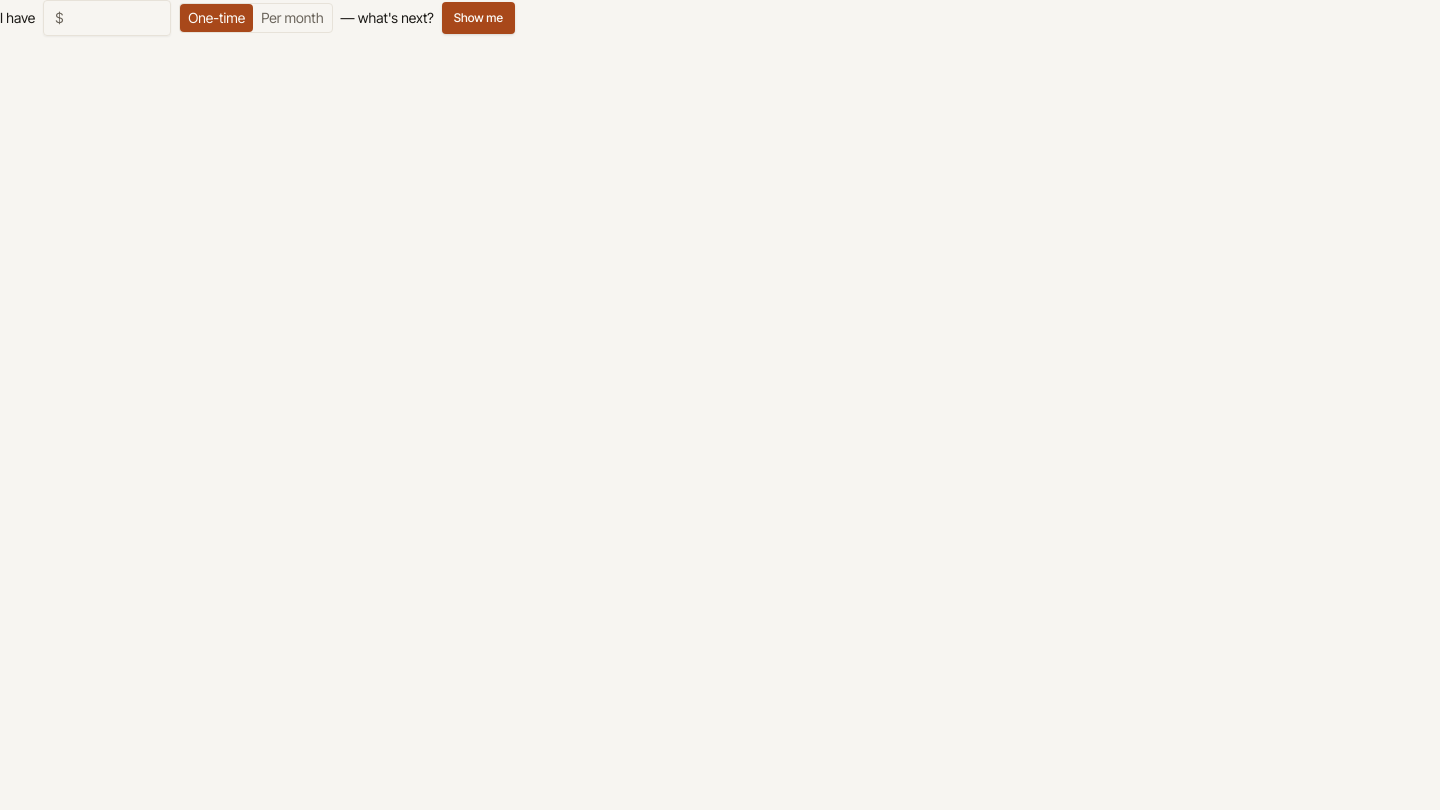
QuestionBar › Escape does NOT dismiss the interview gate; Cancel is the only non-accept exit (smoke defect)
Type "10000" into the field named "Amount". click: (107, 18)
box: [43,0,171,36]
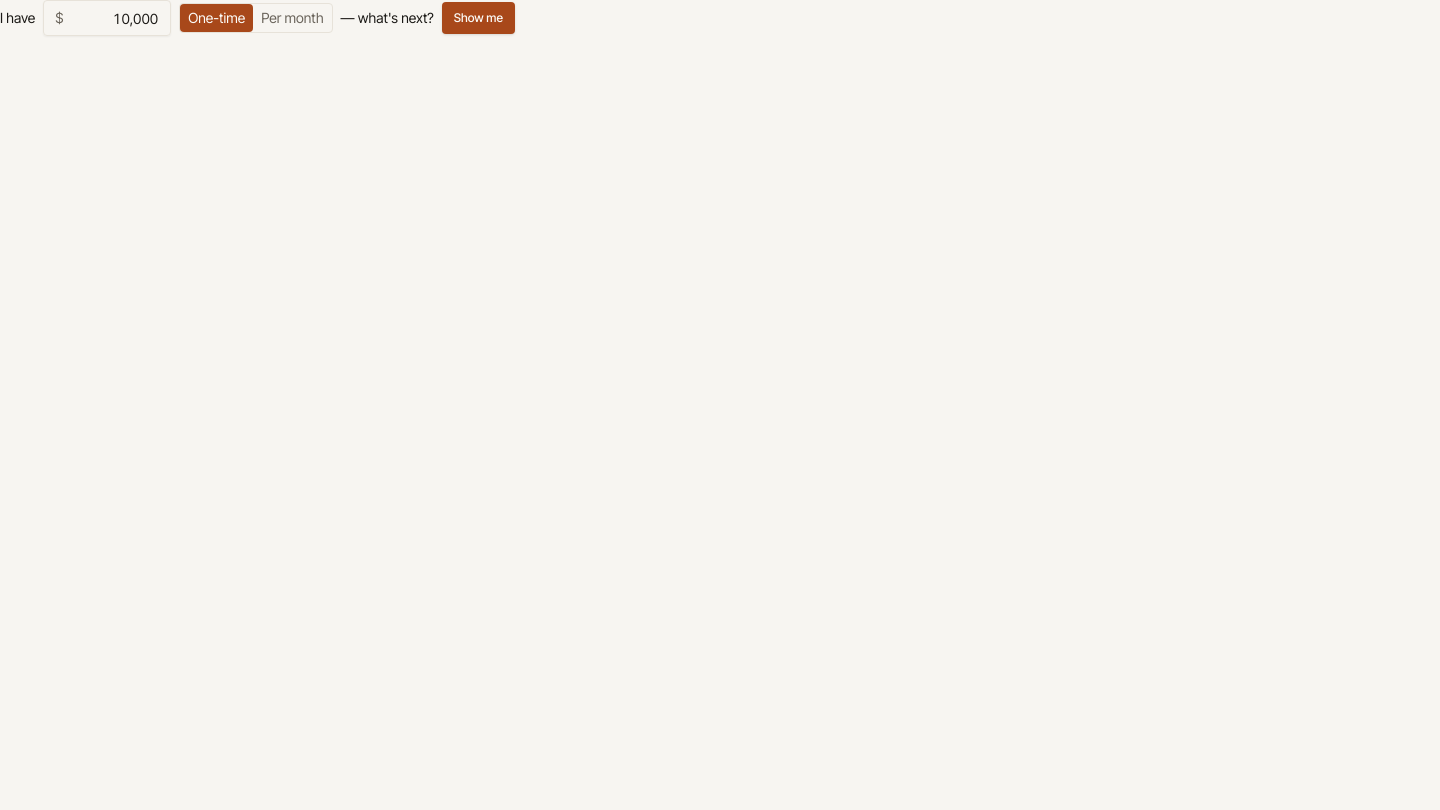
Click the button "Show me". click: (478, 18)
box: [442,2,515,34]
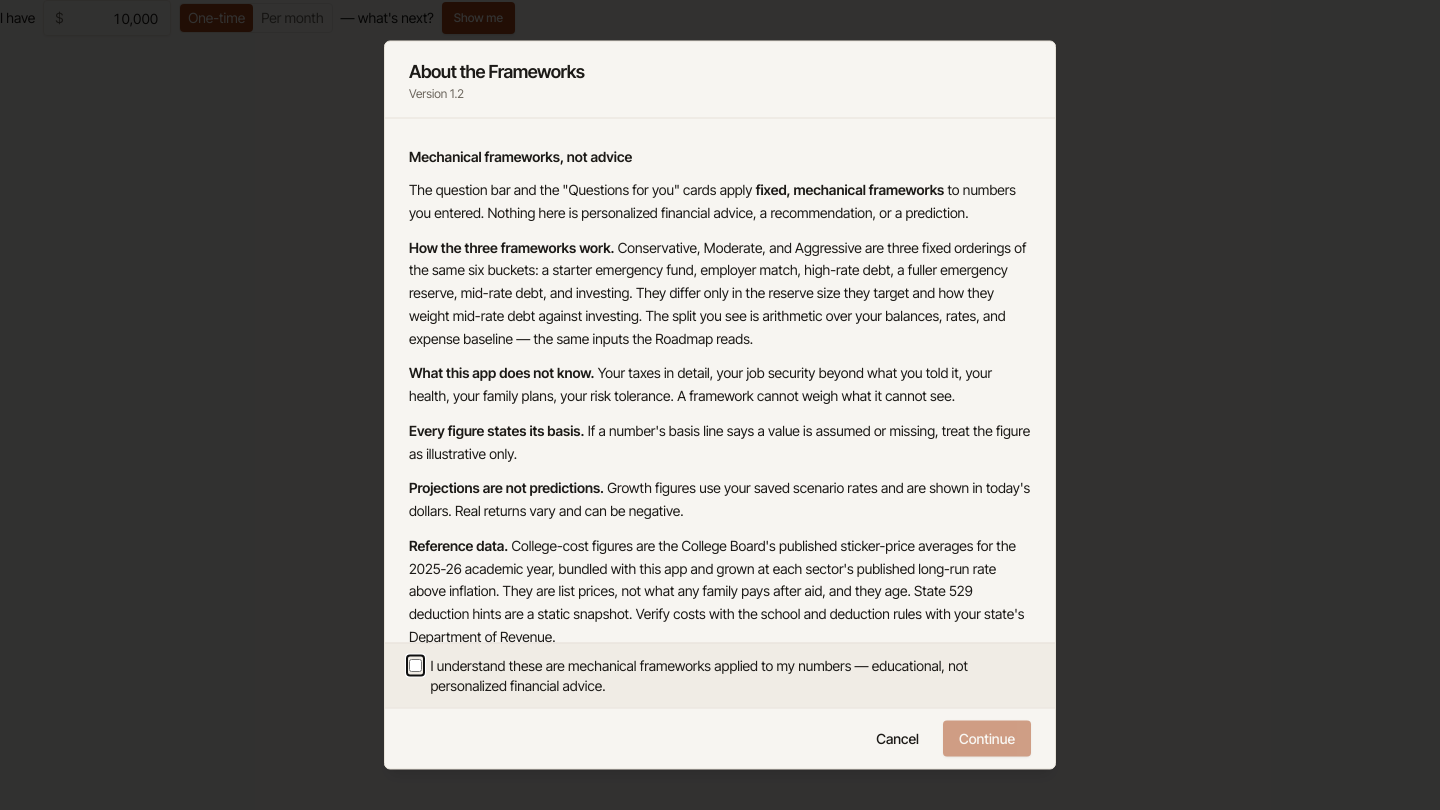
Now the heading "About the Frameworks" is shown, box [409,60,584,82]
Press Escape
Now the heading "About the Frameworks" is shown, box [409,60,584,82]
# Cancel remains the legitimate non-accept exit — closes without computing.
Click the button "Cancel". click: (898, 738)
box: [860,720,935,756]
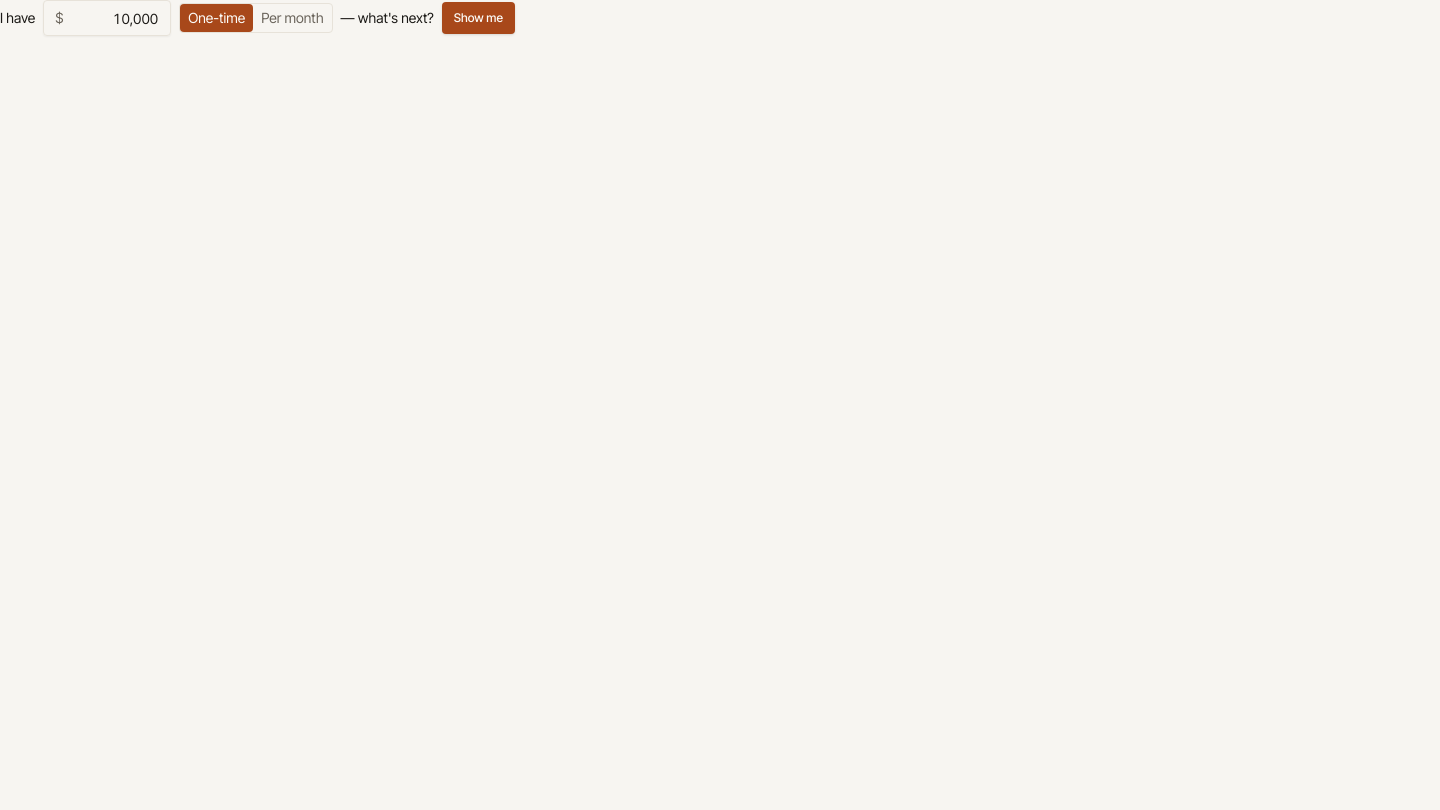
Now the heading "About the Frameworks" is gone
